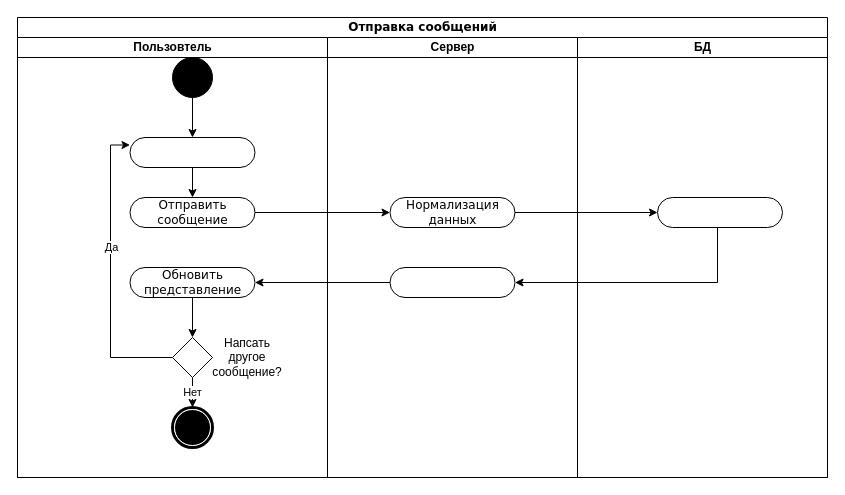
The diagram is 845 pixels wide and 495 high, and some of its shapes have lost their labels. The centre of each missing label's shape, as x and y in pixels:
"Запись данных в бд" goes at (719,212).
"Написать сообщение" goes at (192,152).
"Оповестить всех пользователей" goes at (452,282).
